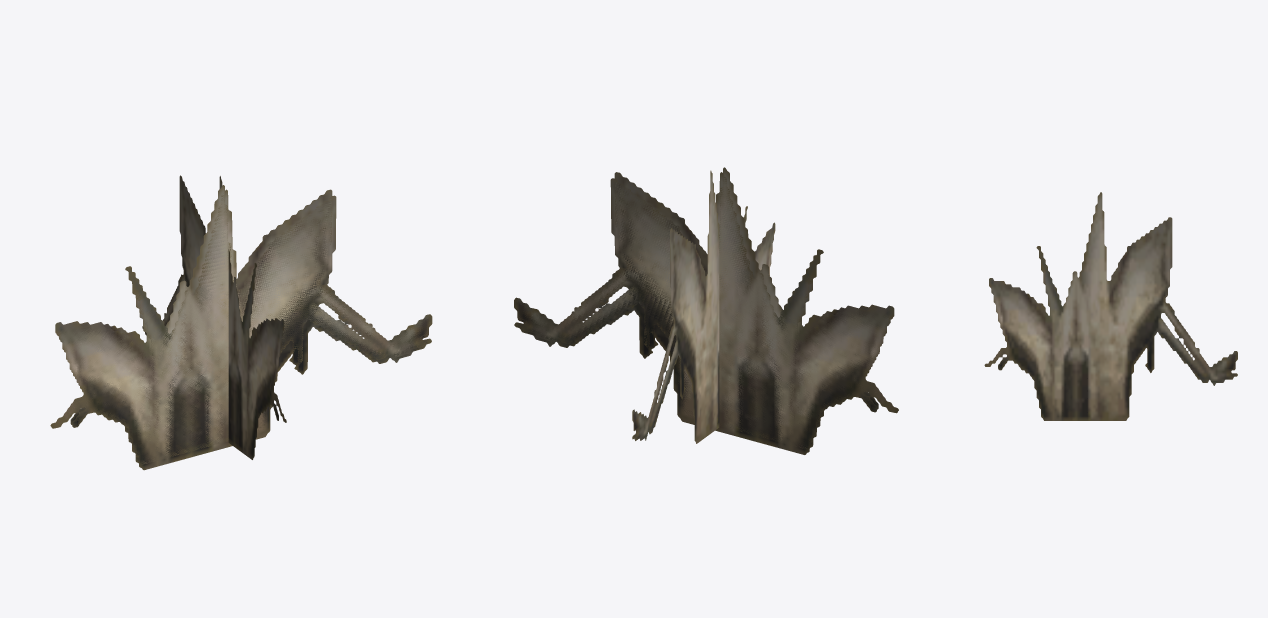
Rendered from succ_tatt_pika_bare_l2.fbx.
3 views of the same model, side by side, from view 1: azimuth 30°, elevation 25°; view 2: azimuth 150°, elevation 25°; view 3: azimuth 270°, elevation 25° (orthographic). The views are drawn at different scales.
Parts seen in each view (by area): view 1: mesh_node; view 2: mesh_node; view 3: mesh_node.
Part boxes in pixels (x1,y1,x2,y2): mesh_node: [50, 175, 432, 470]; mesh_node: [514, 167, 898, 454]; mesh_node: [984, 192, 1237, 420].
Size of the model in its own units: 1.14 by 1.15 by 0.732.
Materials: 1 (1 with a texture image).
